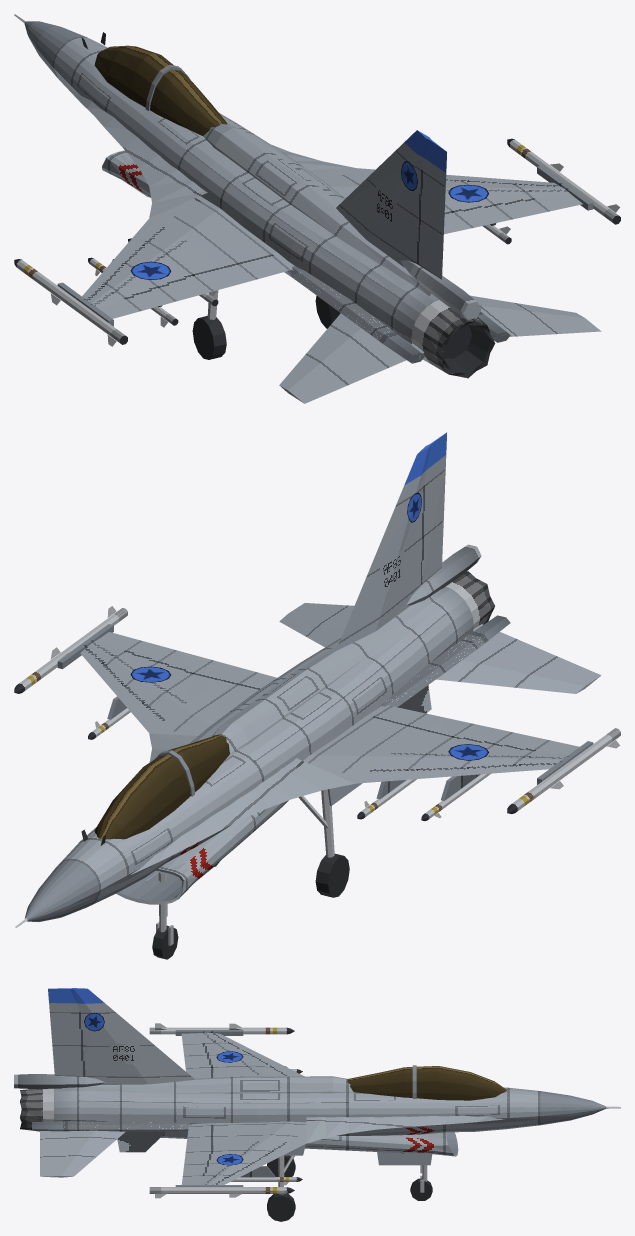
The picture shows the model from 3 angles, top to bottom: view 1: azimuth 30°, elevation 25°; view 2: azimuth 150°, elevation 25°; view 3: azimuth 270°, elevation 25°; orthographic projection. The views are drawn at different scales.
Parts seen in each view (by area): view 1: airframe, canopy, stab_l, stab_r, rudder, flap_l, aileron_r, aileron_l, msl_4, gear_main_l, msl_3; view 2: airframe, canopy, stab_l, rudder, stab_r, gear_main_l, msl_4, flap_l, aileron_l, aileron_r, msl_3, flap_r (+1 smaller); view 3: airframe, canopy, stab_r, rudder, msl_3, gear_main_r, msl_4, flap_r, door_nose, aileron_l, aileron_r, gear_nose (+1 smaller).
Boxes of the visible parts, x1,y1,x2,y2 form: airframe: (14,14,593,378); canopy: (94,45,227,135); stab_l: (279,313,423,403); stab_r: (470,295,601,336); rudder: (417,170,445,278); flap_l: (195,254,290,290); aileron_r: (450,199,547,228); aileron_l: (126,274,215,310); msl_4: (14,259,127,346); gear_main_l: (192,290,226,359); msl_3: (507,138,620,224); airframe: (15,432,593,927); canopy: (94,735,229,839); stab_l: (436,624,601,693); rudder: (421,469,445,583); stab_r: (279,603,354,647); gear_main_l: (298,789,349,897); msl_4: (507,728,620,813); flap_l: (372,706,470,736); aileron_l: (451,723,547,750); aileron_r: (126,641,214,674); msl_3: (14,606,127,693); flap_r: (195,661,276,689); airframe: (14,988,620,1186); canopy: (347,1065,506,1100); stab_r: (40,1130,125,1177); rudder: (49,1012,84,1075); msl_3: (149,1187,294,1198); gear_main_r: (267,1155,295,1221); msl_4: (149,1023,294,1034); flap_r: (185,1125,214,1151); door_nose: (377,1152,432,1165); aileron_l: (183,1044,212,1068); aileron_r: (183,1150,212,1175); gear_nose: (410,1165,432,1200).
Bounding box in the file's own units: 9.75 × 5.85 × 15.22.
Materials: 6 (6 with a texture image).
